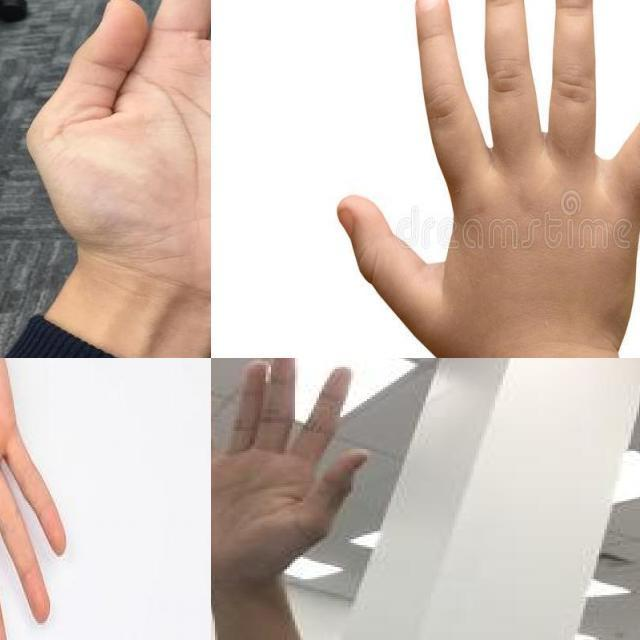no-gloves: (337, 0, 640, 358), (23, 0, 211, 308), (211, 358, 375, 589), (0, 358, 119, 640)
